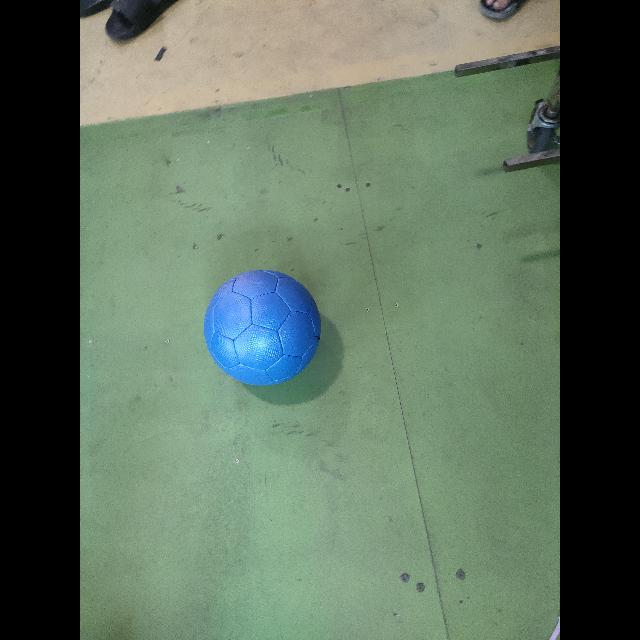B: (204, 270, 321, 385)
